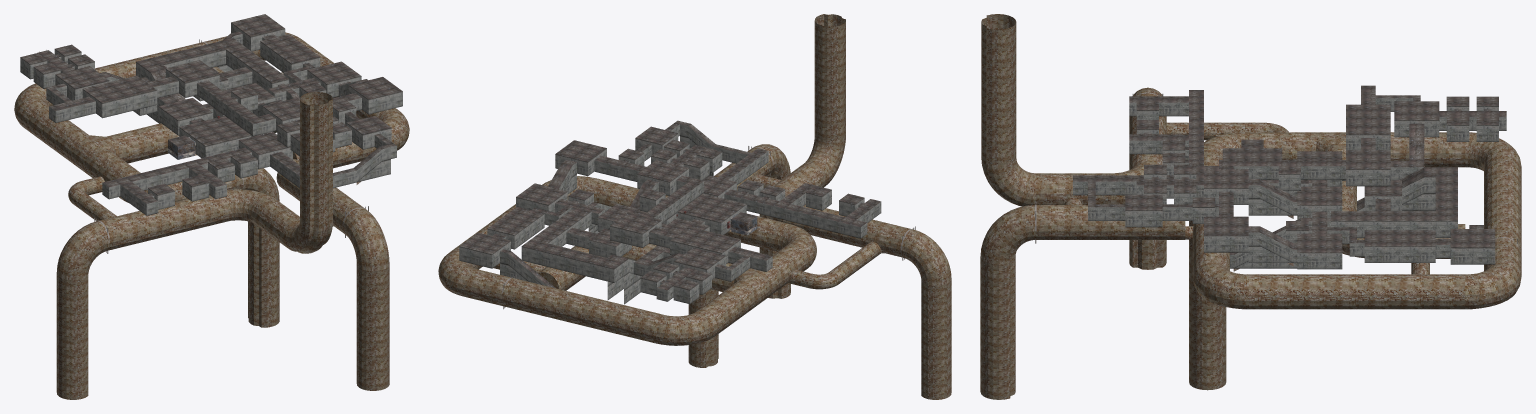
The model's file is maze.obj.
The picture shows the model from 3 angles, left to right: view 1: azimuth 30°, elevation 25°; view 2: azimuth 150°, elevation 25°; view 3: azimuth 270°, elevation 25°; orthographic projection. The views are drawn at different scales.
Visible parts, largest first — view 1: Sewerage_5&10, Ceiling, Maze, Elevator; view 2: Sewerage_5&10, Maze, Ceiling, Elevator; view 3: Sewerage_5&10, Ceiling, Maze.
Part boxes in pixels (<box>): Sewerage_5&10: <box>14,32,409,399</box>; Ceiling: <box>20,14,402,203</box>; Maze: <box>20,22,402,215</box>; Elevator: <box>168,135,196,159</box>; Sewerage_5&10: <box>438,14,951,399</box>; Maze: <box>459,124,881,304</box>; Ceiling: <box>459,120,880,290</box>; Elevator: <box>729,212,757,235</box>; Sewerage_5&10: <box>980,14,1521,399</box>; Ceiling: <box>1073,85,1506,254</box>; Maze: <box>1073,98,1506,271</box>.
Bounding box in the file's own units: 67.9 × 50 × 72.4.
14 materials, 13 textured.
